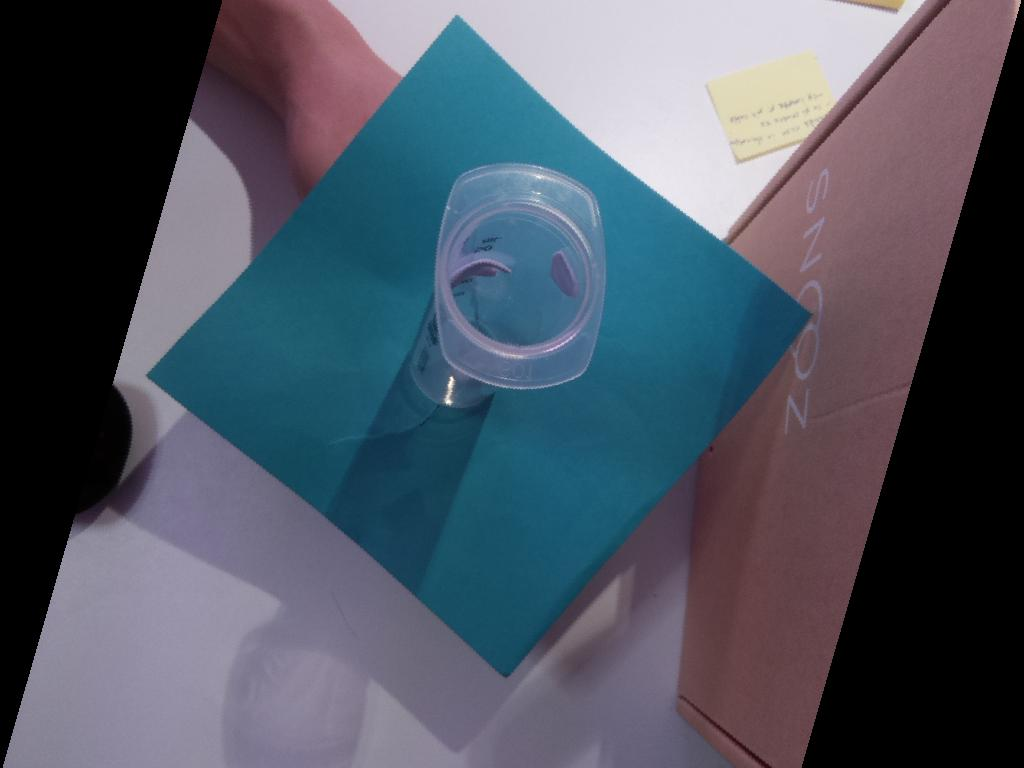dirty: (435, 163, 605, 390)
